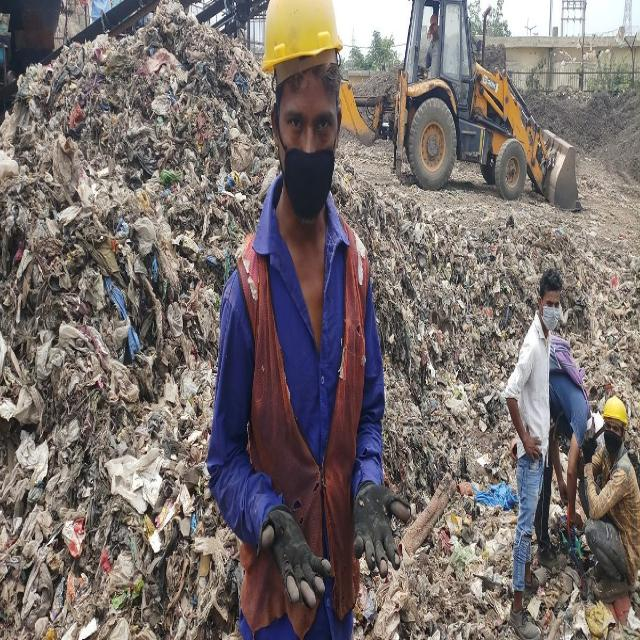helmet: (256, 1, 346, 79), (602, 389, 629, 428)
